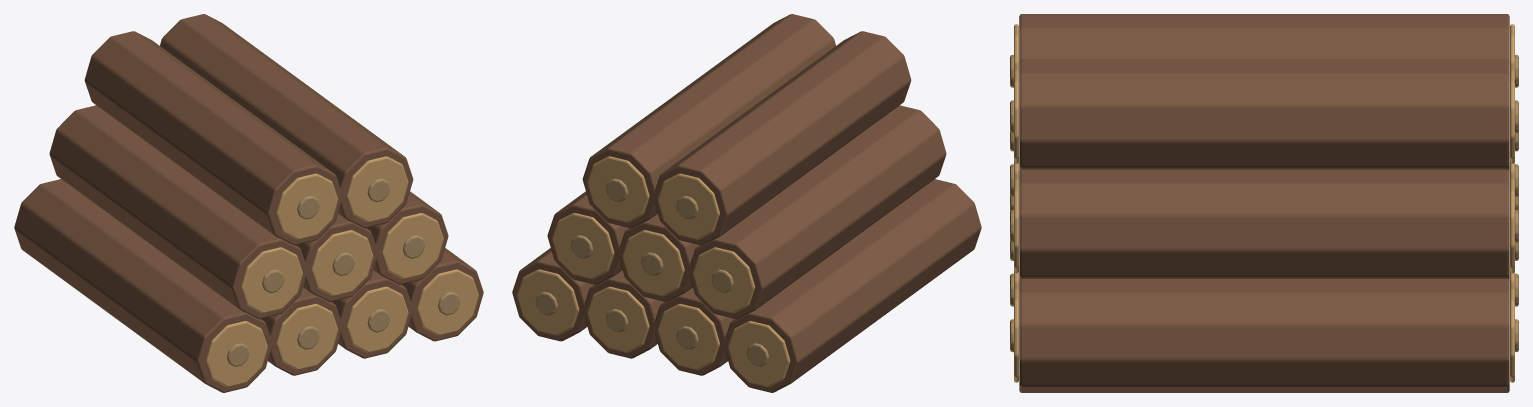
Rendered from prop_log_stack__attachments.glb.
3 renders of one model, left to right at view 1: azimuth 30°, elevation 25°; view 2: azimuth 150°, elevation 25°; view 3: azimuth 270°, elevation 25°, orthographic. The views are drawn at different scales.
Visible parts, largest first — view 1: prop_log_stack__attachments__mesh_00; view 2: prop_log_stack__attachments__mesh_00; view 3: prop_log_stack__attachments__mesh_00.
Part boxes in pixels (x1,y1,x2,y2): prop_log_stack__attachments__mesh_00: [14, 14, 483, 392]; prop_log_stack__attachments__mesh_00: [512, 14, 981, 392]; prop_log_stack__attachments__mesh_00: [1010, 14, 1518, 392].
Size of the model in its own units: 1.06 by 0.7263 by 1.22.
